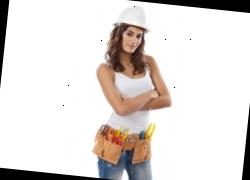helmet: (110, 2, 152, 34)
no_wear: (96, 52, 166, 136)
